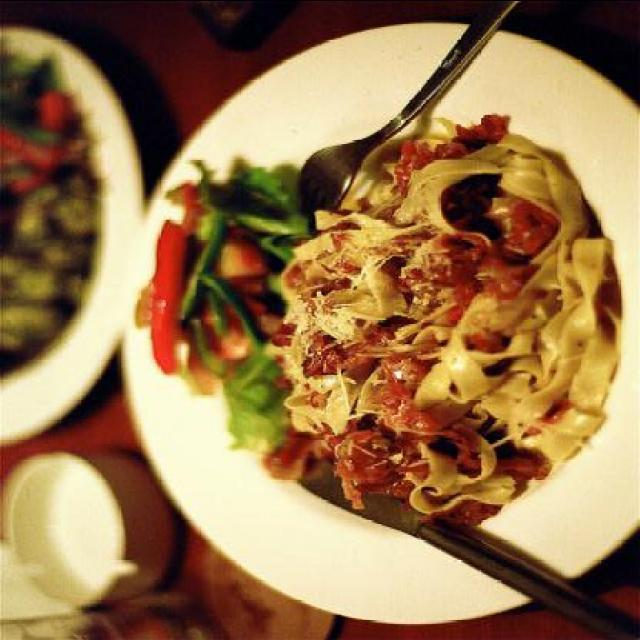Pasta with carbonara sauce: (120, 88, 638, 550)
